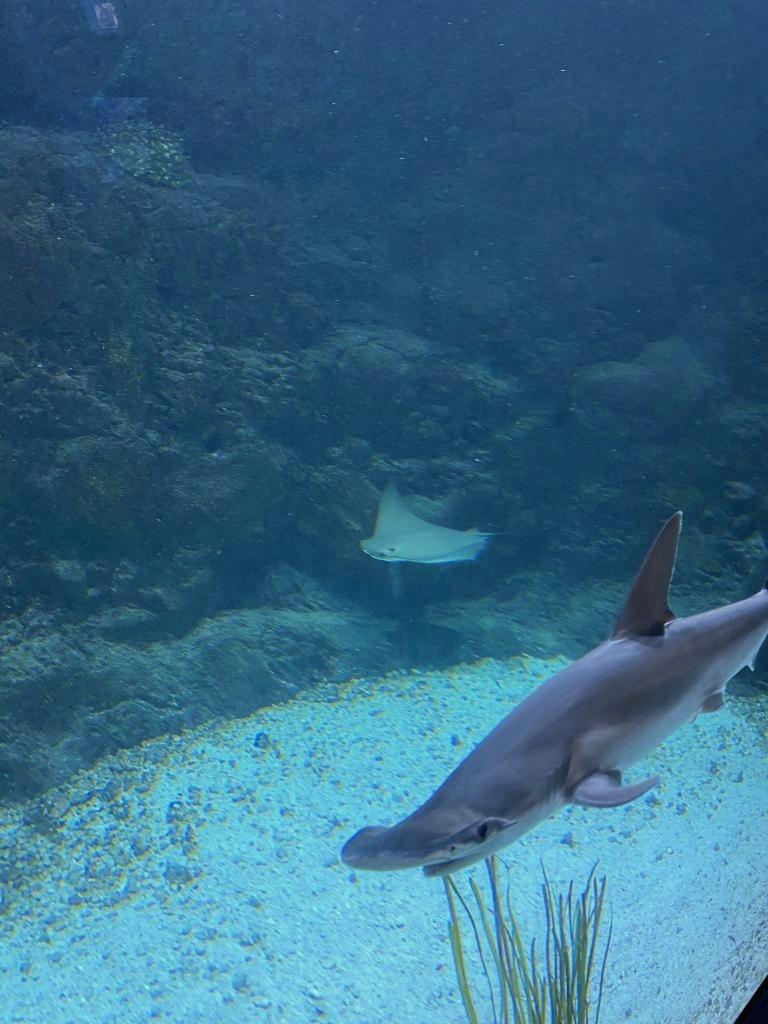shark: (344, 524, 768, 878)
stingray: (342, 474, 488, 586)
